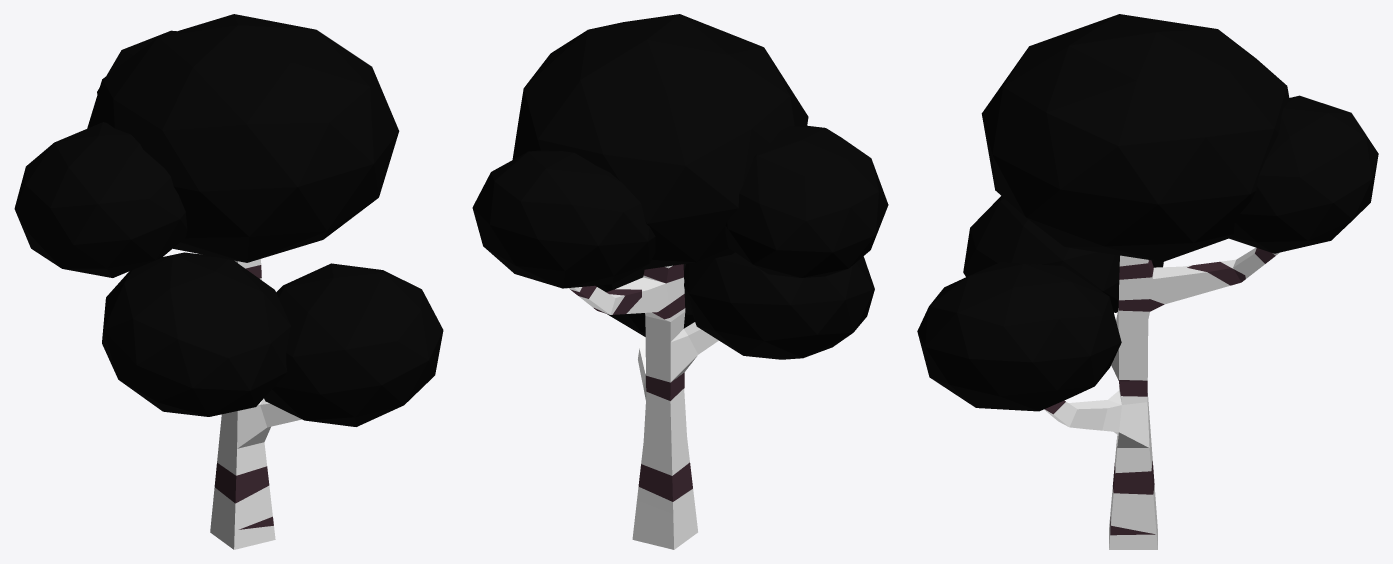
The model's file is Tree_13_1.fbx.
3 views of the same model, side by side, from view 1: azimuth 30°, elevation 25°; view 2: azimuth 150°, elevation 25°; view 3: azimuth 270°, elevation 25° (orthographic). The views are drawn at different scales.
Visible parts, largest first — view 1: Tree_13 top, Tree_13 trunk; view 2: Tree_13 top, Tree_13 trunk; view 3: Tree_13 top, Tree_13 trunk.
Part boxes in pixels (box(x1,y1,x2,y2)): Tree_13 top: box(14, 14, 443, 515); Tree_13 trunk: box(210, 499, 275, 549); Tree_13 top: box(472, 14, 888, 513); Tree_13 trunk: box(632, 500, 697, 549); Tree_13 top: box(917, 14, 1378, 515); Tree_13 trunk: box(1109, 497, 1157, 549).
Size of the model in its own units: 416 by 576 by 472.
